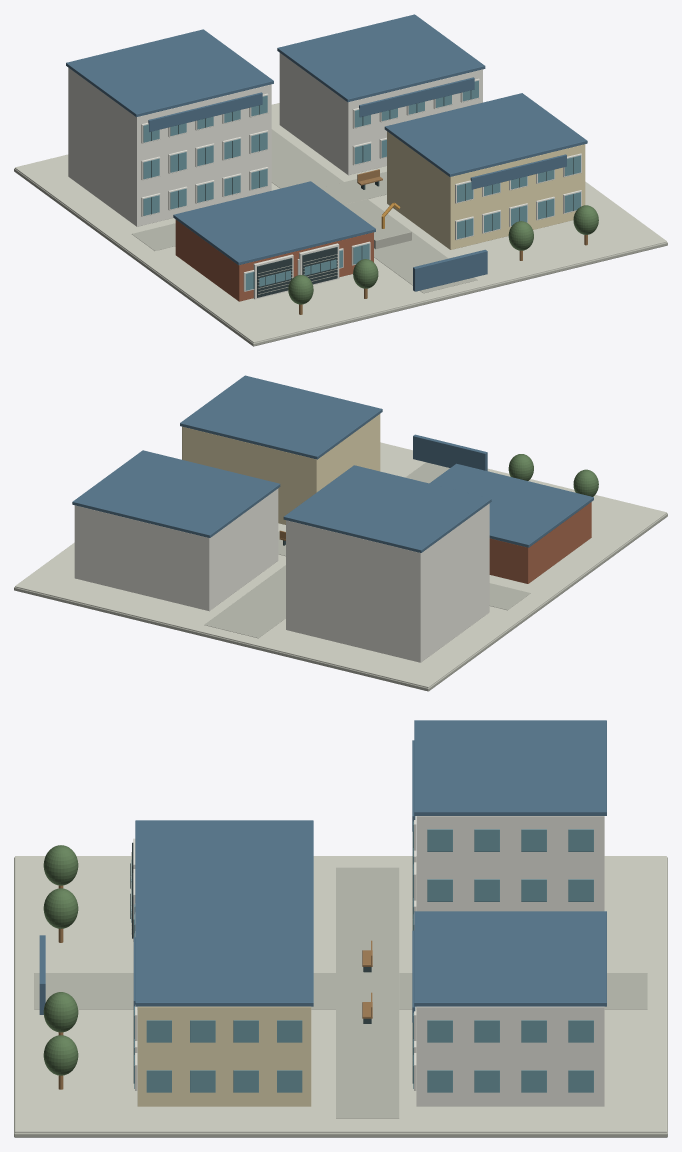
File: technical-college.glb
3 renders of one model, top to bottom at view 1: azimuth 30°, elevation 25°; view 2: azimuth 150°, elevation 25°; view 3: azimuth 270°, elevation 25°, orthographic. The views are drawn at different scales.
Visible parts, largest first — view 1: Paving, TechnicalLectureA, TechnicalLectureBRoof, TechnicalLectureARoof, DesignLaboratory, MechanicalWorkshopRoof, DesignLaboratoryRoof, TechnicalLectureB, CampusPath, MechanicalWorkshop, Lot, CampusEntrySign (+11 smaller); view 2: TechnicalLectureA, Paving, TechnicalLectureB, TechnicalLectureARoof, TechnicalLectureBRoof, DesignLaboratoryRoof, DesignLaboratory, MechanicalWorkshopRoof, MechanicalWorkshop, CampusPath, Lot, CampusEntrySign (+3 smaller); view 3: Paving, TechnicalLectureARoof, TechnicalLectureBRoof, DesignLaboratoryRoof, MechanicalWorkshopRoof, CampusPath.001, TechnicalLectureB, TechnicalLectureA, DesignLaboratory, CampusPath, Lot, TreeCrown (+3 smaller).
Part boxes in pixels (x1,y1,x2,y2): Paving: (15, 103, 666, 343); TechnicalLectureA: (68, 68, 271, 226); TechnicalLectureBRoof: (277, 14, 485, 102); TechnicalLectureARoof: (66, 29, 273, 117); DesignLaboratory: (387, 131, 585, 249); MechanicalWorkshopRoof: (173, 181, 375, 265); DesignLaboratoryRoof: (384, 93, 587, 176); TechnicalLectureB: (279, 53, 482, 175); CampusPath: (271, 129, 477, 293); MechanicalWorkshop: (175, 219, 373, 301); Lot: (14, 168, 667, 346); CampusEntrySign: (413, 249, 487, 291); TechnicalLectureA: (286, 503, 489, 662); Paving: (15, 442, 666, 687); TechnicalLectureB: (74, 488, 278, 611); TechnicalLectureARoof: (283, 465, 491, 552); TechnicalLectureBRoof: (72, 450, 280, 537); DesignLaboratoryRoof: (180, 375, 382, 459); DesignLaboratory: (182, 414, 380, 524); MechanicalWorkshopRoof: (429, 463, 593, 547); MechanicalWorkshop: (489, 502, 591, 583); CampusPath: (204, 462, 449, 638); Lot: (14, 513, 667, 691); CampusEntrySign: (413, 434, 487, 471); Paving: (15, 856, 666, 1132); TechnicalLectureARoof: (414, 720, 606, 815); TechnicalLectureBRoof: (414, 911, 606, 1006); DesignLaboratoryRoof: (135, 911, 313, 1006); MechanicalWorkshopRoof: (135, 820, 313, 911); CampusPath.001: (336, 867, 399, 1118); TechnicalLectureB: (416, 1006, 604, 1106); TechnicalLectureA: (416, 816, 604, 911); DesignLaboratory: (137, 1006, 311, 1106); CampusPath: (34, 973, 647, 1009); Lot: (14, 857, 667, 1137); TreeCrown: (43, 845, 78, 885).
Size of the model in its own units: 32 by 8.69 by 32.
